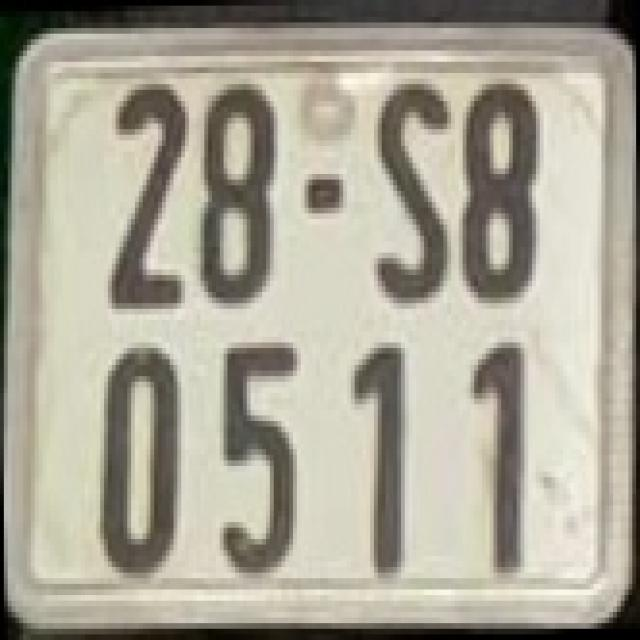0: (96, 337, 185, 578)
1: (347, 337, 416, 578), (466, 337, 536, 572)
2: (104, 79, 189, 308)
5: (216, 331, 301, 578)
8: (458, 73, 544, 303), (196, 79, 282, 308)
S: (370, 73, 451, 309)
